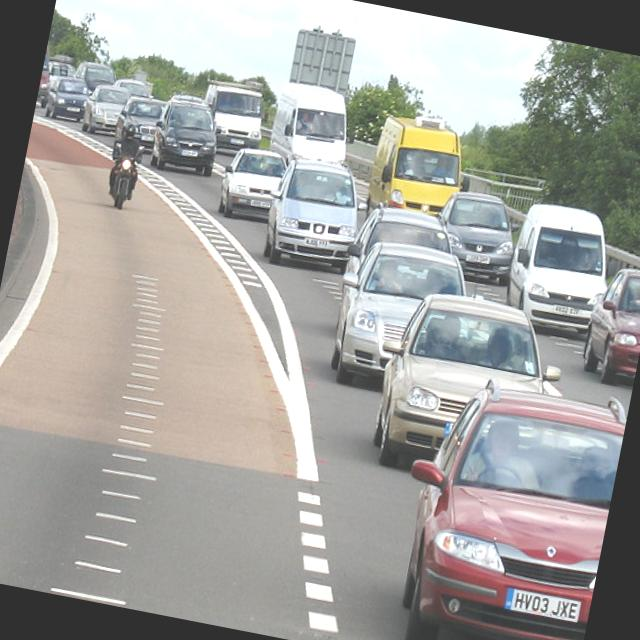Vehicle: (375, 361, 630, 640), (25, 51, 308, 232), (358, 284, 572, 496), (323, 232, 477, 406), (500, 197, 622, 336), (258, 152, 370, 278), (364, 111, 472, 225), (342, 196, 459, 293), (427, 184, 526, 288), (266, 76, 360, 175), (579, 262, 640, 390), (146, 88, 228, 180), (195, 72, 271, 160), (104, 140, 146, 210)
